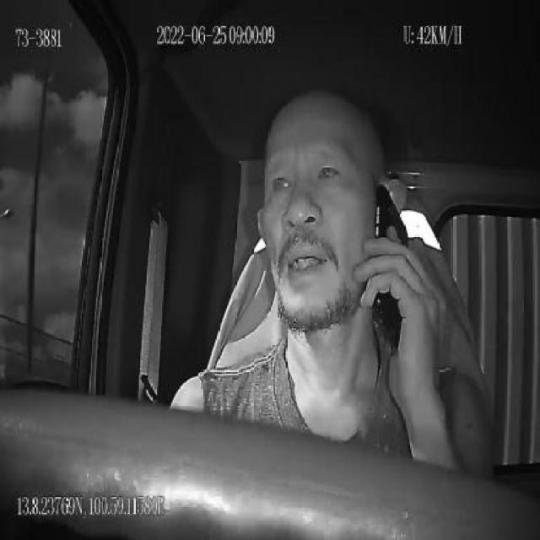phone: (372, 179, 410, 364)
